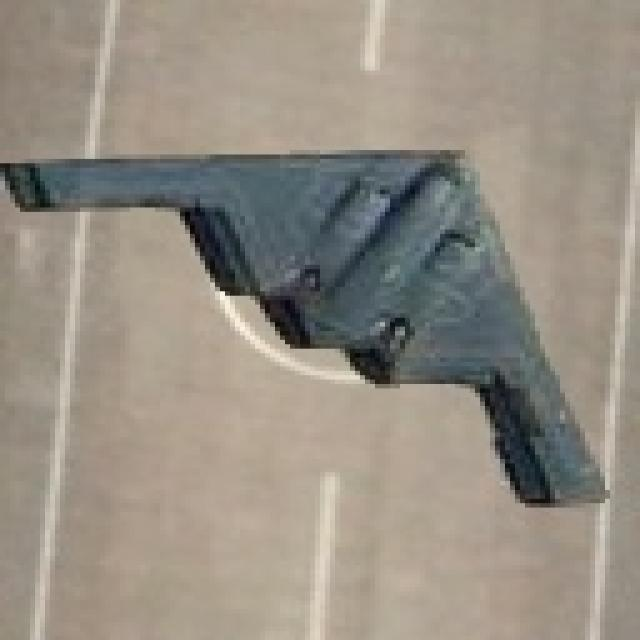B-2_TopDown: (0, 141, 610, 508)
